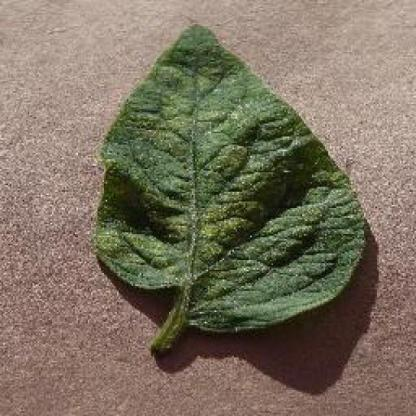Tomato_Spider_Mites: (98, 27, 363, 332)
